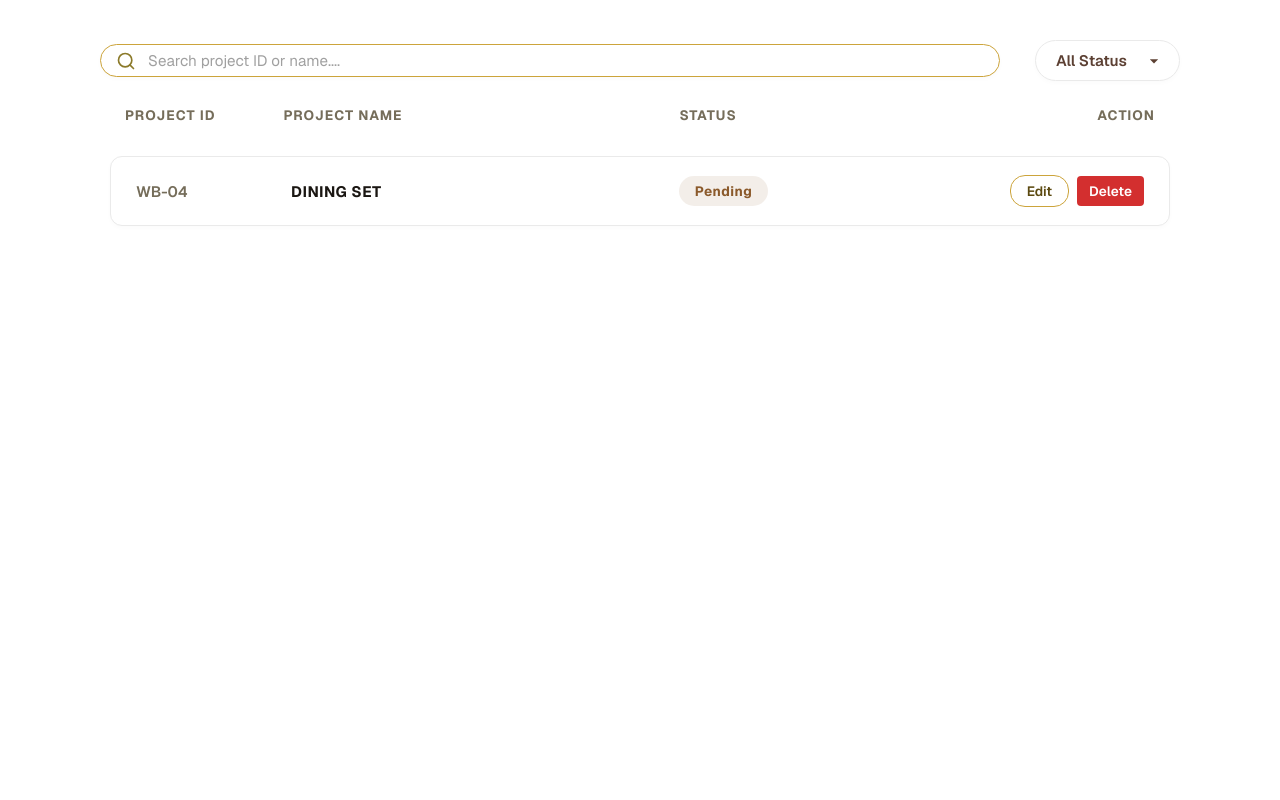
Scenario: ProjectList › switches to EditProjectForm on Edit
expect the text "Dining Set" is shown: met, box [291, 182, 382, 200]
Step 1. Click the button "Edit" → point(1039, 191), box [1010, 175, 1069, 207]
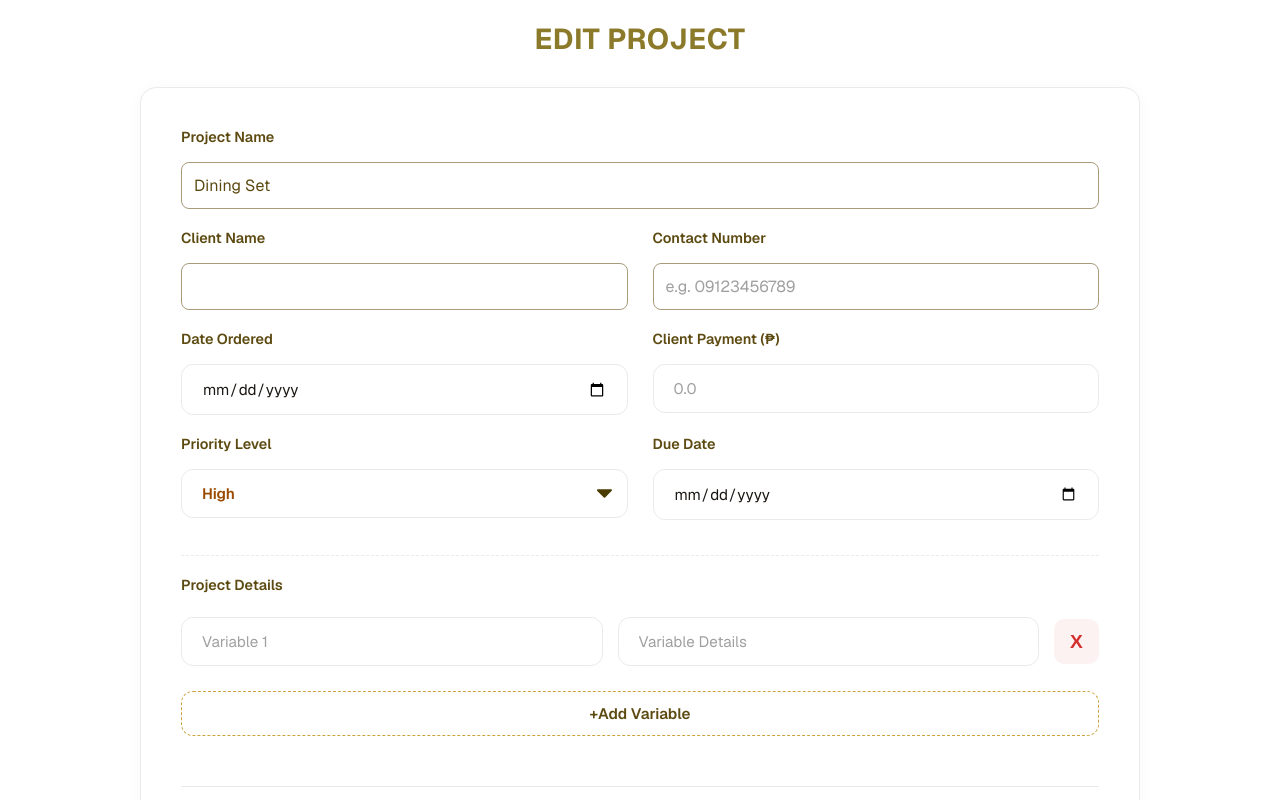
expect the heading "EDIT PROJECT" is shown: met, box [534, 20, 746, 57]
